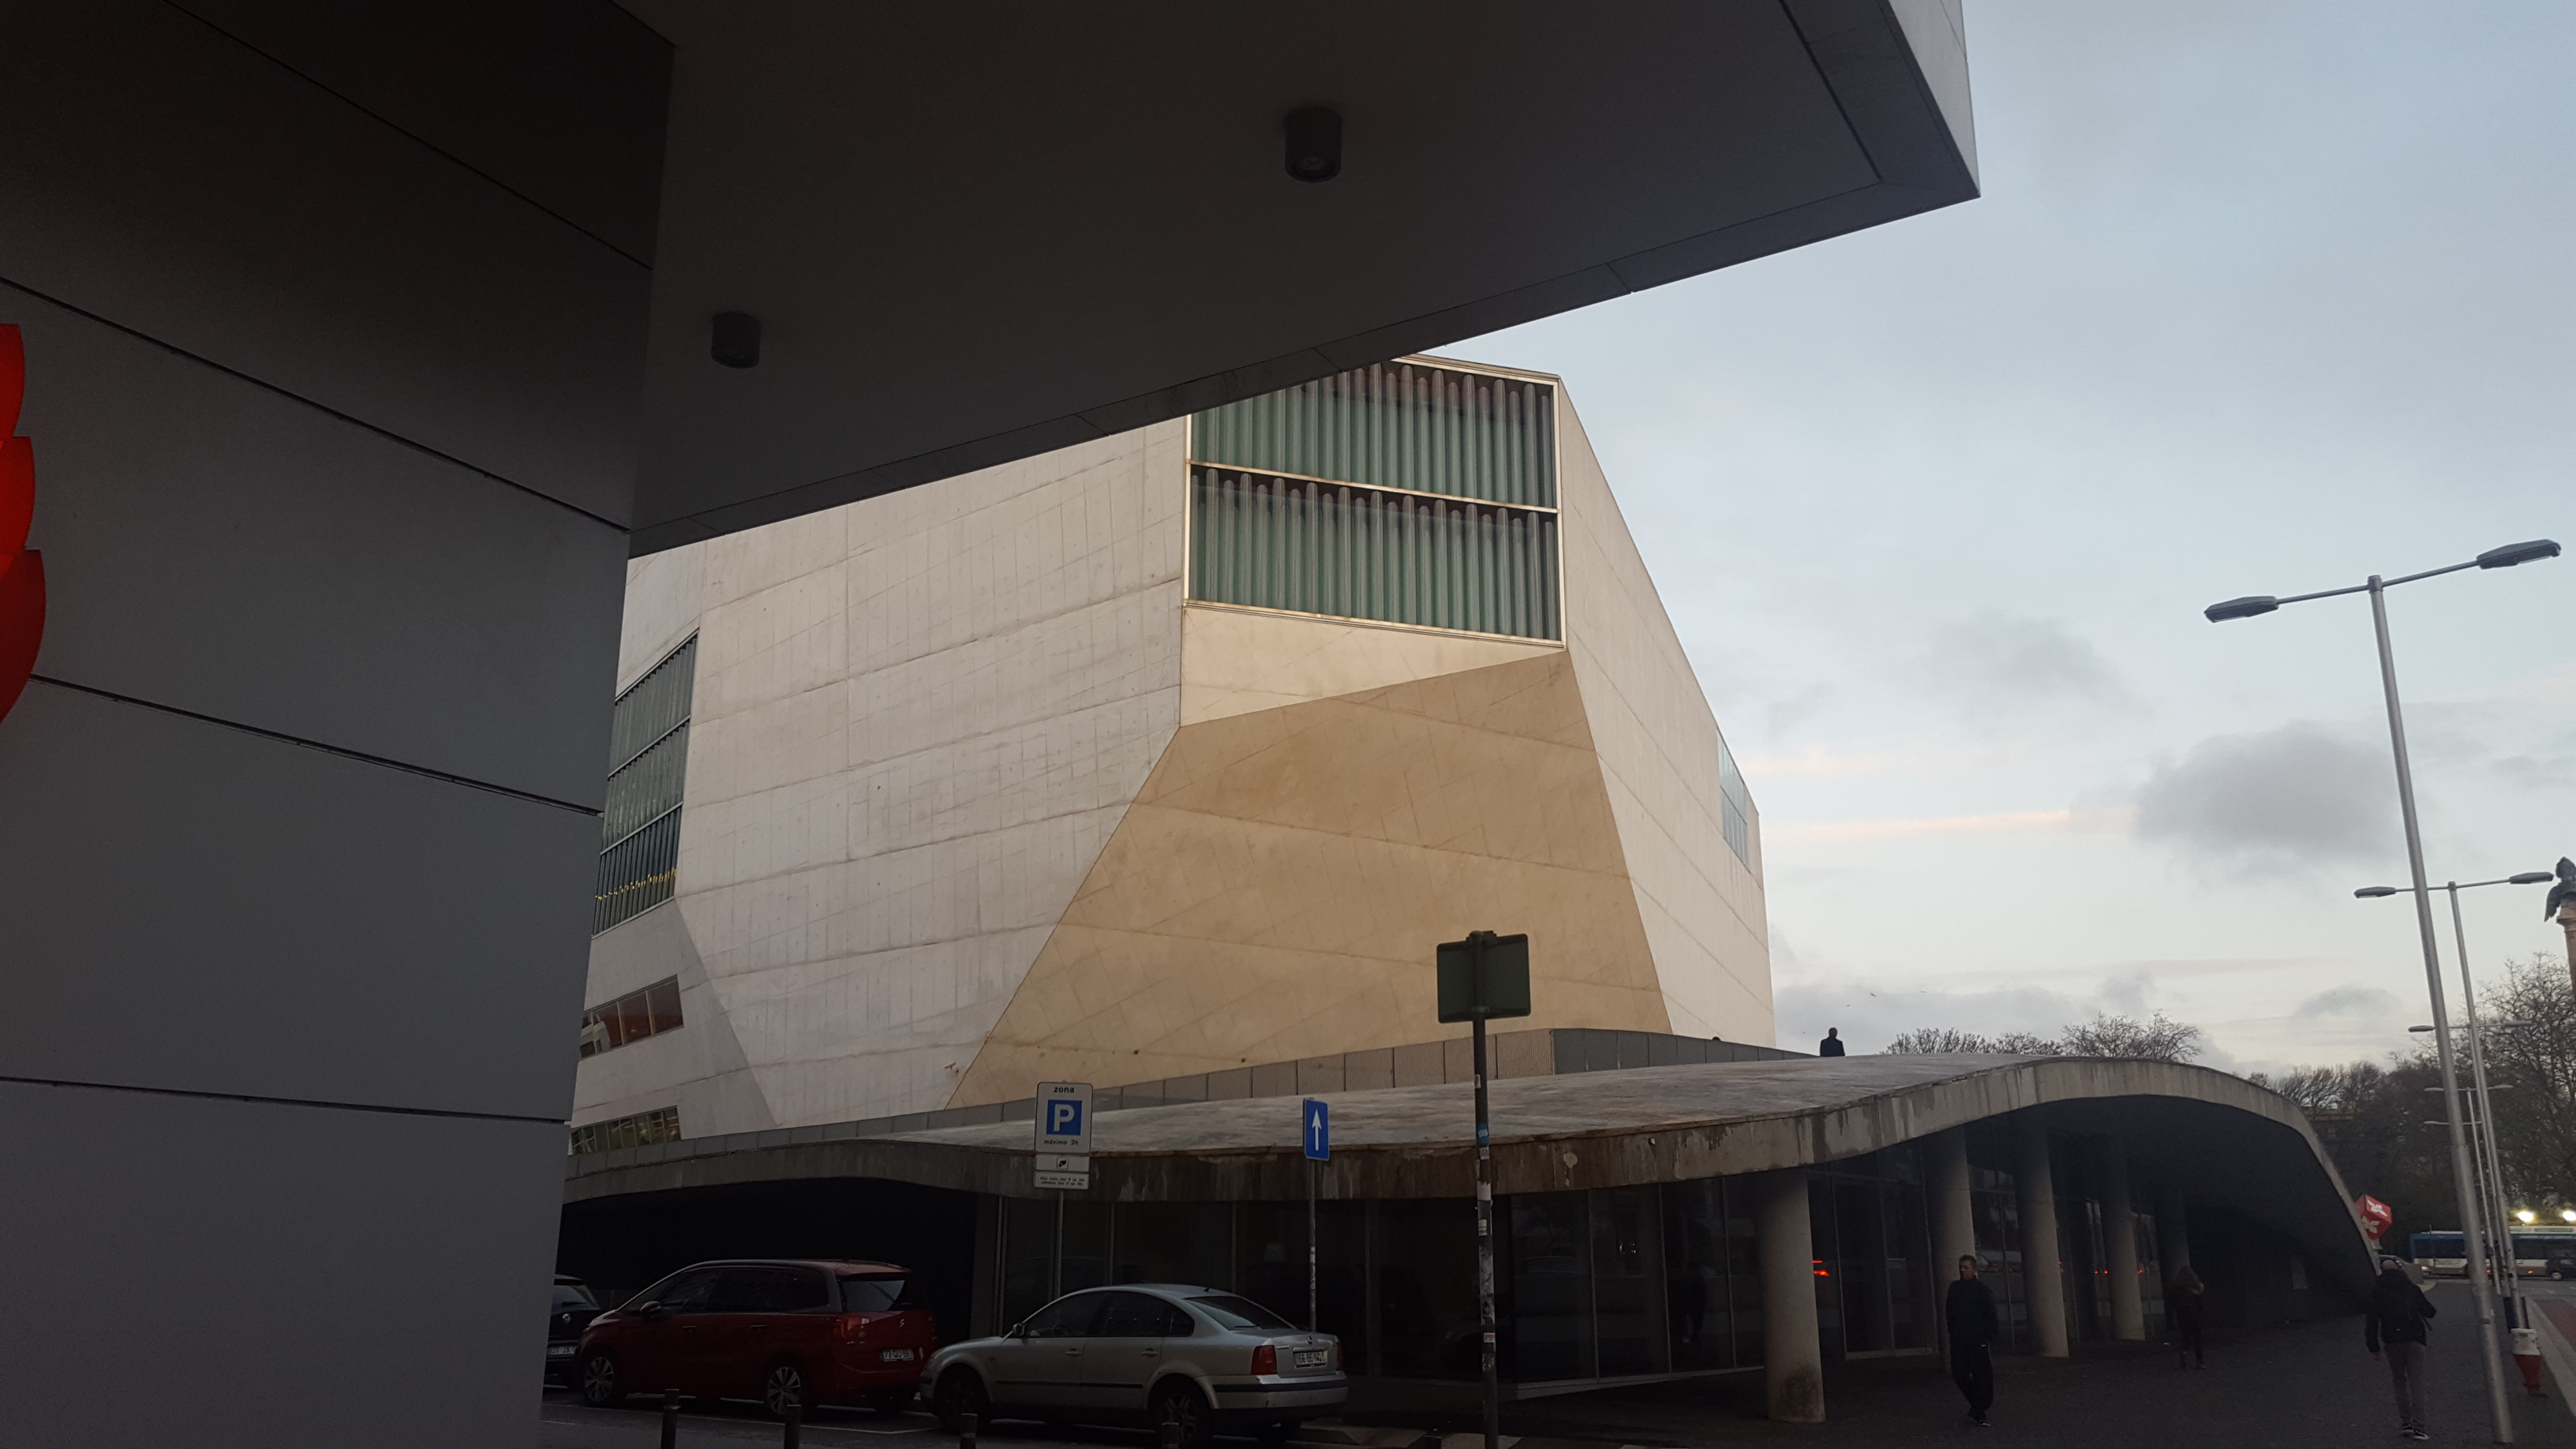musica: (556, 379, 1290, 777)
